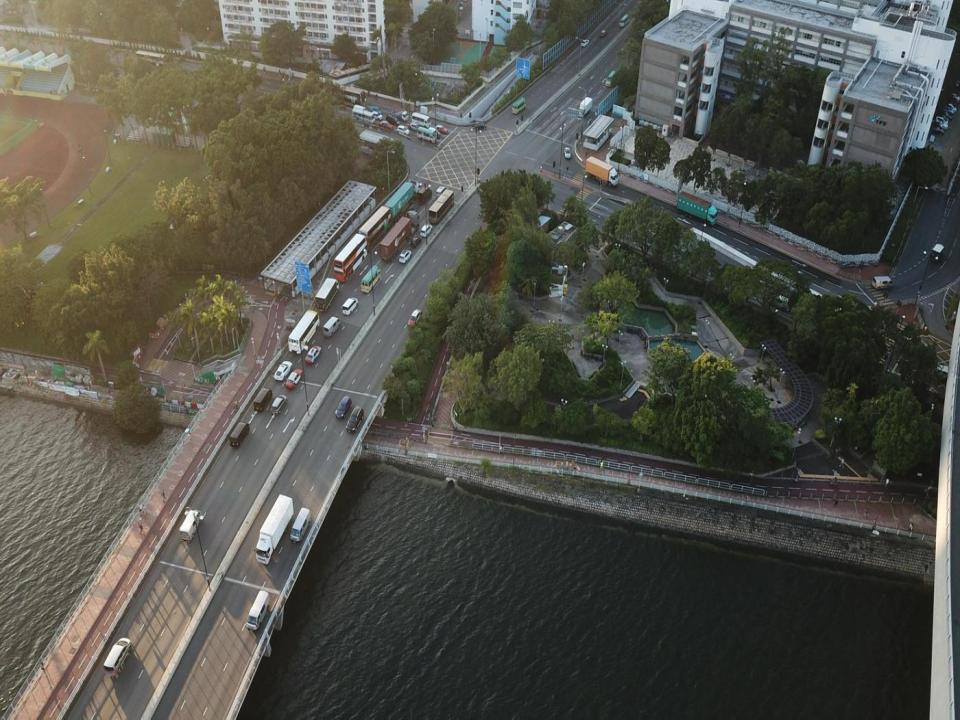bus: (333, 234, 368, 282), (358, 206, 391, 250), (288, 310, 320, 354), (330, 84, 367, 110), (429, 190, 454, 225), (136, 50, 168, 68), (361, 265, 381, 292), (352, 108, 375, 125), (416, 126, 436, 144), (412, 111, 432, 129), (512, 97, 526, 115)
car: (346, 407, 364, 433), (285, 368, 304, 390), (273, 361, 293, 381), (336, 395, 352, 419), (304, 344, 322, 364), (271, 395, 287, 415), (341, 298, 359, 315), (407, 309, 422, 327), (929, 121, 946, 134), (398, 248, 412, 263), (432, 124, 449, 135), (926, 126, 945, 135), (935, 110, 952, 120), (409, 235, 422, 248), (420, 224, 432, 238), (932, 120, 948, 130), (933, 114, 947, 125), (942, 100, 957, 110), (370, 110, 383, 121), (378, 120, 393, 129), (933, 115, 948, 124), (397, 125, 410, 135), (938, 106, 956, 113), (428, 126, 440, 136), (474, 121, 487, 130), (409, 122, 420, 132), (948, 93, 960, 102), (941, 99, 958, 105), (370, 106, 382, 114), (564, 147, 571, 158), (582, 38, 589, 46), (601, 30, 607, 38), (460, 2, 464, 11)
truck: (253, 493, 294, 565), (379, 209, 420, 262), (385, 180, 421, 223), (676, 191, 718, 226), (586, 156, 618, 186), (315, 278, 339, 312), (580, 98, 593, 117), (391, 108, 409, 120)
van: (103, 639, 131, 676), (246, 591, 270, 633), (290, 507, 312, 544), (180, 509, 201, 543), (230, 422, 251, 448), (253, 388, 272, 411), (322, 315, 340, 338), (416, 186, 432, 204), (871, 277, 893, 289), (930, 243, 943, 263), (606, 69, 616, 88), (385, 113, 399, 126), (435, 188, 448, 198), (620, 13, 629, 27)
